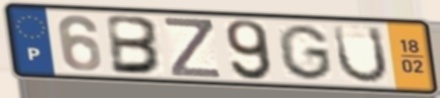6: (54, 13, 103, 73)
9: (223, 18, 273, 83)
B: (105, 12, 166, 77)
G: (275, 22, 335, 82)
U: (331, 23, 392, 86)
Z: (161, 15, 224, 80)
